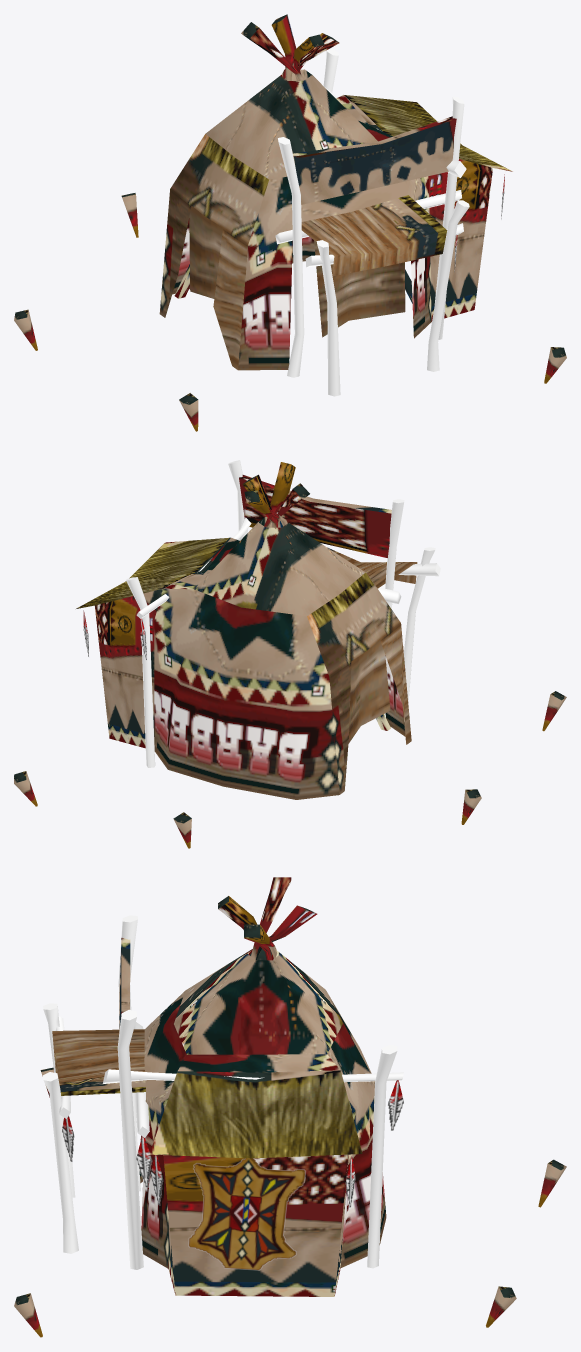
3 views of the same model, one above another, from view 1: azimuth 30°, elevation 25°; view 2: azimuth 150°, elevation 25°; view 3: azimuth 270°, elevation 25° (orthographic). The views are drawn at different scales.
Visible parts, largest first — view 1: pCylinder1, Line01, fence01, Plane03, fence, Plane01, pCube4, pCube3, pCube5, pCube2; view 2: pCylinder1, Line01, Plane01, fence01, post, fence, pCube5, pCube3; view 3: pCylinder1, Plane02, fence01, fence, post, crossbeam, pCube4, feather1, Line01, pCube5, pCube3, spike01 (+2 smaller).
Part boxes in pixels (<box>): pCylinder1: <box>159,69,512,370</box>; Line01: <box>293,116,456,204</box>; fence01: <box>275,96,464,377</box>; Plane03: <box>314,240,405,337</box>; fence: <box>305,200,469,396</box>; Plane01: <box>189,206,222,298</box>; pCube4: <box>241,22,412,303</box>; pCube3: <box>271,14,296,80</box>; pCube5: <box>294,34,324,80</box>; pCube2: <box>174,33,339,298</box>; pCylinder1: <box>76,517,417,799</box>; Line01: <box>239,475,391,557</box>; Plane01: <box>348,640,390,743</box>; fence01: <box>228,460,404,727</box>; post: <box>126,577,155,767</box>; fence: <box>398,547,440,702</box>; pCube5: <box>264,462,295,527</box>; pCube3: <box>244,490,390,730</box>; pCylinder1: <box>52,947,386,1296</box>; Plane02: <box>188,1158,305,1270</box>; fence01: <box>117,915,149,1269</box>; fence: <box>43,1003,78,1253</box>; post: <box>367,1044,397,1268</box>; crossbeam: <box>102,1069,403,1083</box>; pCube4: <box>251,877,291,959</box>; feather1: <box>62,1116,152,1187</box>; Line01: <box>119,938,130,1030</box>; pCube5: <box>218,896,271,960</box>; pCube3: <box>256,905,317,960</box>; spike01: <box>486,1286,516,1327</box>.
Size of the model in its own units: 622 by 462 by 641.
Materials: 22 (18 with a texture image).
